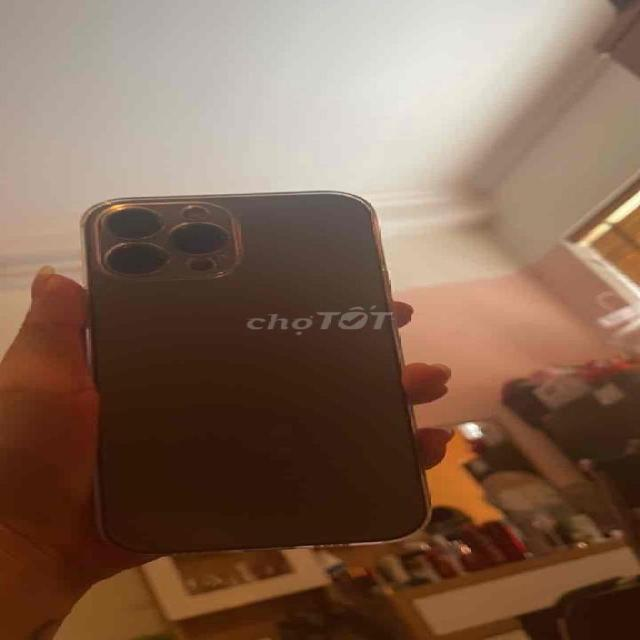gen_12_13: (80, 185, 437, 560)
